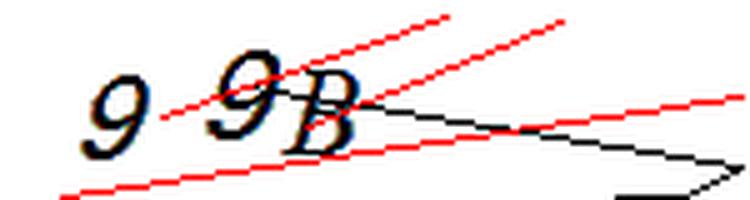9: (200, 44, 281, 146), (74, 67, 156, 167)
B: (278, 61, 368, 164)
